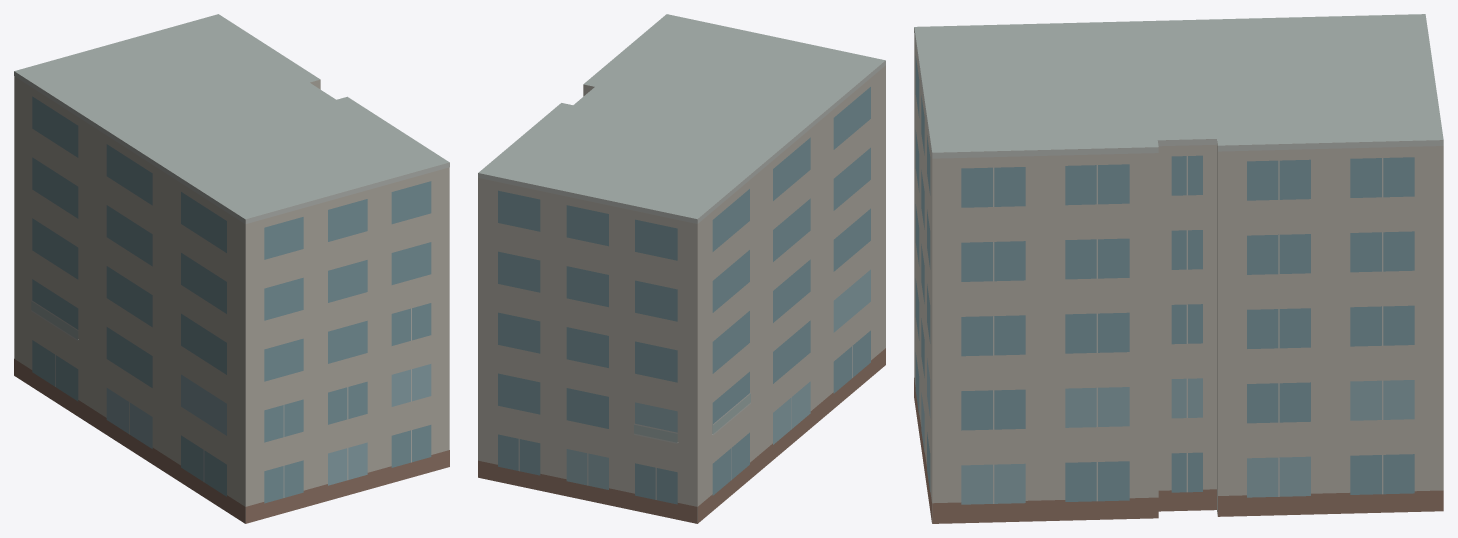
File: survey-upis-33002926.glb
The picture shows the model from 3 angles, left to right: view 1: azimuth 30°, elevation 25°; view 2: azimuth 150°, elevation 25°; view 3: azimuth 270°, elevation 25°; orthographic projection. The views are drawn at different scales.
Visible parts, largest first — view 1: survey-upis-33002926.tmp; view 2: survey-upis-33002926.tmp; view 3: survey-upis-33002926.tmp.
Boxes of the visible parts, x1,y1,x2,y2 form: survey-upis-33002926.tmp: (14, 14, 449, 523); survey-upis-33002926.tmp: (478, 14, 885, 523); survey-upis-33002926.tmp: (914, 14, 1443, 523).
Size of the model in its own units: 12.24 by 15.25 by 19.73.
